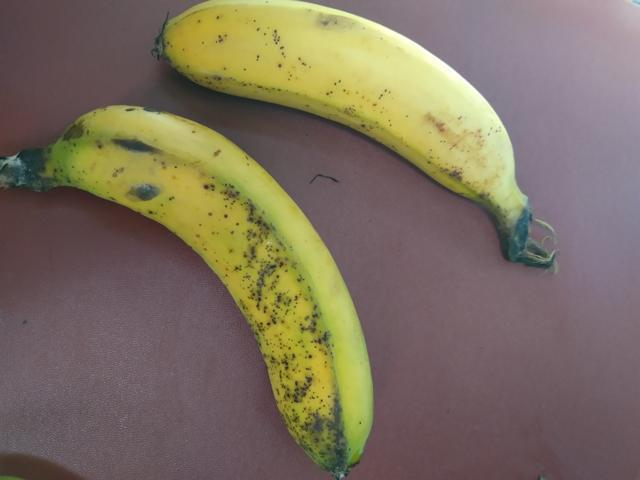ripe: (61, 103, 398, 479), (163, 0, 524, 185)
